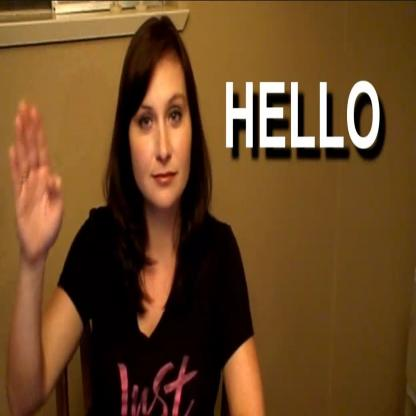Hello: (3, 34, 208, 416)
